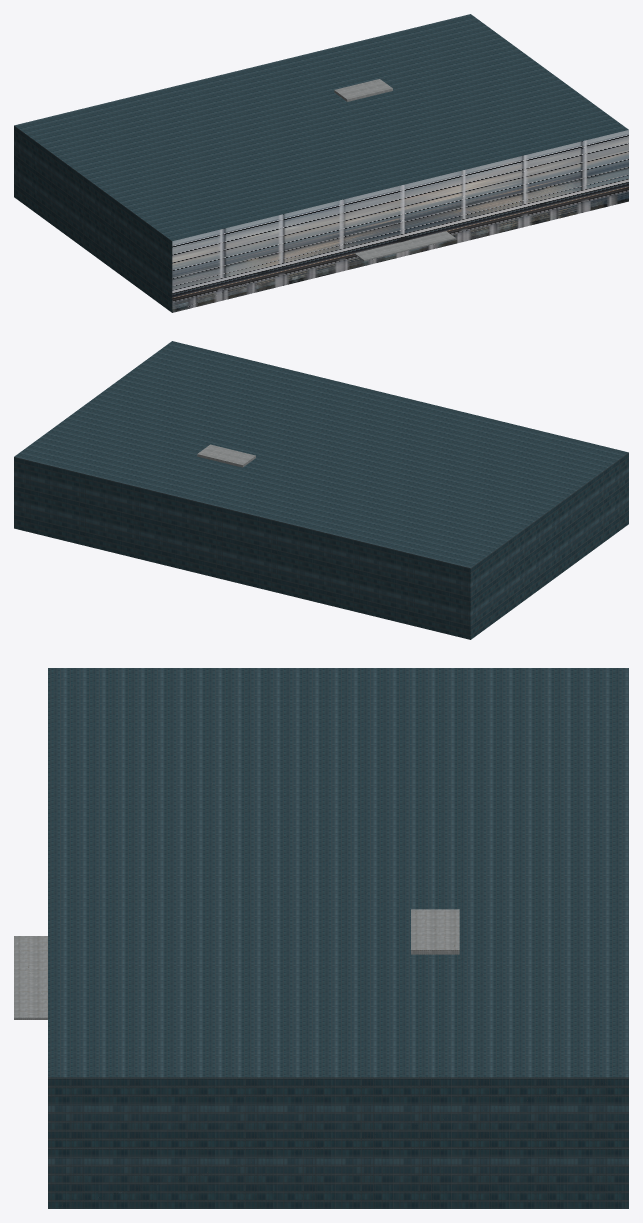
Rendered from harborfront-expo_lod0.gltf.
The picture shows the model from 3 angles, top to bottom: view 1: azimuth 30°, elevation 25°; view 2: azimuth 150°, elevation 25°; view 3: azimuth 270°, elevation 25°; orthographic projection. The views are drawn at different scales.
Visible parts, largest first — view 1: harborfront-expo_main, harborfront-expo_front, harborfront-expo__canopy, harborfront-expo__hvac; view 2: harborfront-expo_main, harborfront-expo__hvac; view 3: harborfront-expo_main, harborfront-expo__canopy, harborfront-expo__hvac.
Boxes of the visible parts, bbox=[...] form: harborfront-expo_main: bbox=[14, 14, 628, 312]; harborfront-expo_front: bbox=[172, 130, 628, 312]; harborfront-expo__canopy: bbox=[355, 231, 455, 261]; harborfront-expo__hvac: bbox=[334, 79, 392, 101]; harborfront-expo_main: bbox=[14, 341, 628, 639]; harborfront-expo__hvac: bbox=[197, 444, 255, 467]; harborfront-expo_main: bbox=[48, 668, 628, 1208]; harborfront-expo__canopy: bbox=[14, 936, 47, 1019]; harborfront-expo__hvac: bbox=[411, 909, 459, 954].
Size of the model in its own units: 200 by 31 by 127.
